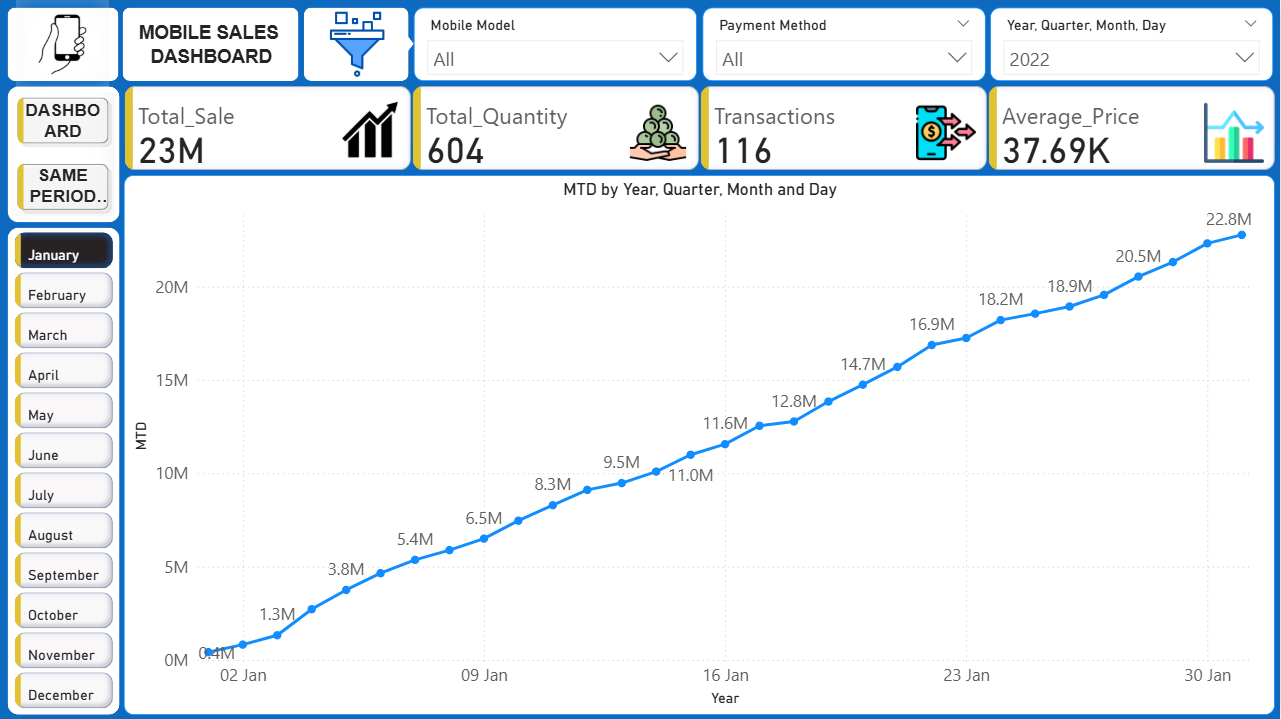

What the dashboard file says about the page in this screenshot:
{"tool":"powerbi","page":{"name":"MTD REPORT","canvas":[1280,720],"ordinal":1},"visuals":[{"type":"shape","box":[386.1,26.5,27.7,35],"z":0},{"type":"shape","box":[7.2,7.2,111,73.6],"z":1000},{"type":"image","box":[15.7,0,92.9,89.3],"z":2000},{"type":"shape","box":[7.2,85.7,112.2,136.3],"z":3000},{"type":"shape","box":[7.2,228,112.2,487.4],"z":4000},{"type":"advancedSlicerVisual","fields":{"Values":["Custom_Calender.Date.Variation.Date Hierarchy.Month"]},"box":[9.7,228,108.6,487.4],"z":5000},{"type":"cardVisual","fields":{"Data":["Sales_Data.Total_Sale","Sales_Data.Total_Quantity","Sales_Data.Transactions","Sales_Data.Average_Price"]},"box":[119.4,80.8,1160.6,94.1],"z":6000},{"type":"slicer","fields":{"Values":["Sales_Data.Mobile Model"]},"box":[413.8,7.2,283.5,73.6],"z":7000},{"type":"slicer","fields":{"Values":["Sales_Data.Payment Method"]},"box":[702.1,7.2,283.5,73.6],"z":8000},{"type":"slicer","fields":{"Values":["Custom_Calender.Date.Variation.Date Hierarchy.Year","Custom_Calender.Date.Variation.Date Hierarchy.Quarter","Custom_Calender.Date.Variation.Date Hierarchy.Month","Custom_Calender.Date.Variation.Date Hierarchy.Day"]},"box":[990.5,7.2,283.5,73.6],"z":9000},{"type":"shape","box":[304,7.2,105,73.6],"z":10000},{"type":"image","box":[318.5,4.8,77.2,78.4],"z":11000},{"type":"shape","box":[123.1,7.2,176.1,73.6],"z":12000},{"type":"textbox","box":[127.5,13.8,167.5,66.2],"z":13000},{"type":"lineChart","fields":{"Category":["Custom_Calender.Date.Variation.Date Hierarchy.Year","Custom_Calender.Date.Variation.Date Hierarchy.Quarter","Custom_Calender.Date.Variation.Date Hierarchy.Month","Custom_Calender.Date.Variation.Date Hierarchy.Day"],"Y":["Sales_Data.MTD"]},"box":[123.8,175,1151.2,540],"z":14000},{"type":"pageNavigator","box":[12.5,92.5,101.2,123.8],"z":15000}]}

Visuals, with their boxes in screenshot pixels (x1, y1, x2, y2), scaled from the page's 1280x720 canvas onto the 1281x719 screenshot:
shape: x1=386 y1=26 x2=414 y2=61
shape: x1=7 y1=7 x2=118 y2=81
image: x1=16 y1=0 x2=109 y2=89
shape: x1=7 y1=86 x2=119 y2=222
shape: x1=7 y1=228 x2=119 y2=714
advancedSlicerVisual - Custom_Calender.Date.Variation.Date Hierarchy.Month: x1=10 y1=228 x2=118 y2=714
cardVisual - Sales_Data.Total_Sale x Sales_Data.Total_Quantity: x1=119 y1=81 x2=1280 y2=175
slicer - Sales_Data.Mobile Model: x1=414 y1=7 x2=698 y2=81
slicer - Sales_Data.Payment Method: x1=703 y1=7 x2=986 y2=81
slicer - Custom_Calender.Date.Variation.Date Hierarchy.Year x Custom_Calender.Date.Variation.Date Hierarchy.Quarter: x1=991 y1=7 x2=1275 y2=81
shape: x1=304 y1=7 x2=409 y2=81
image: x1=319 y1=5 x2=396 y2=83
shape: x1=123 y1=7 x2=299 y2=81
textbox: x1=128 y1=14 x2=295 y2=80
lineChart - Custom_Calender.Date.Variation.Date Hierarchy.Year x Custom_Calender.Date.Variation.Date Hierarchy.Quarter: x1=124 y1=175 x2=1276 y2=714
pageNavigator: x1=13 y1=92 x2=114 y2=216
